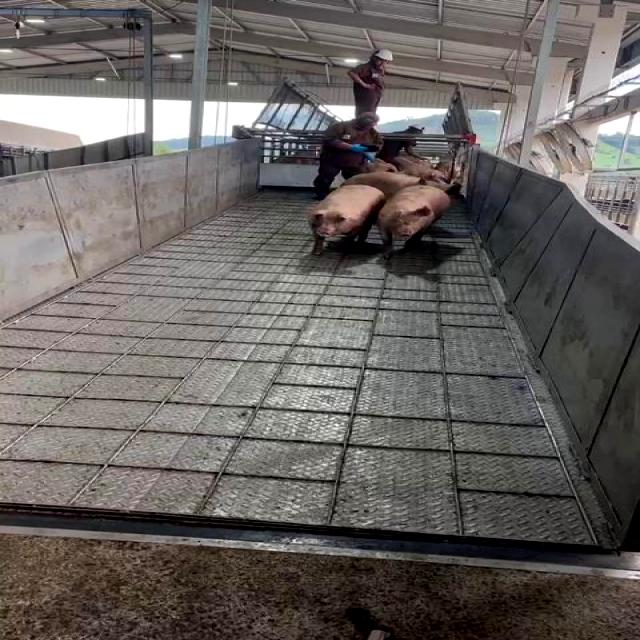pig: (309, 186, 384, 253), (379, 186, 450, 255), (343, 171, 422, 198)
